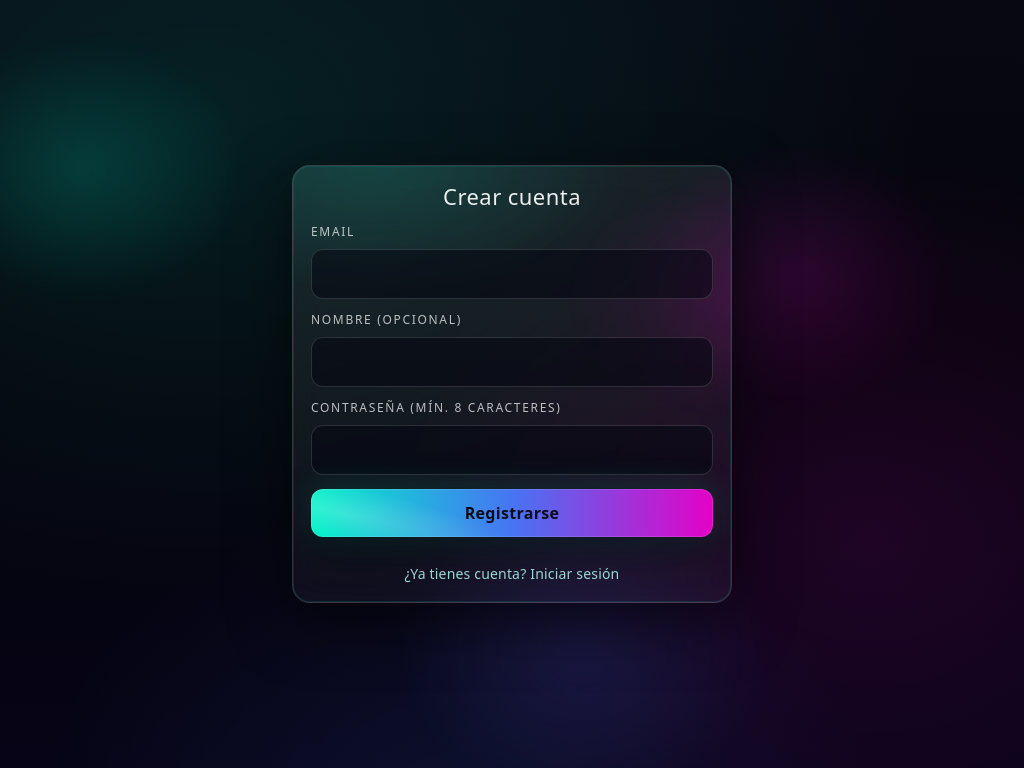
it: RegisterPage › shows error when email already exists
The image size is (1024, 768).
Type "exists@example.com" into the field labelled "Email" at (512, 274), box [311, 249, 713, 299]
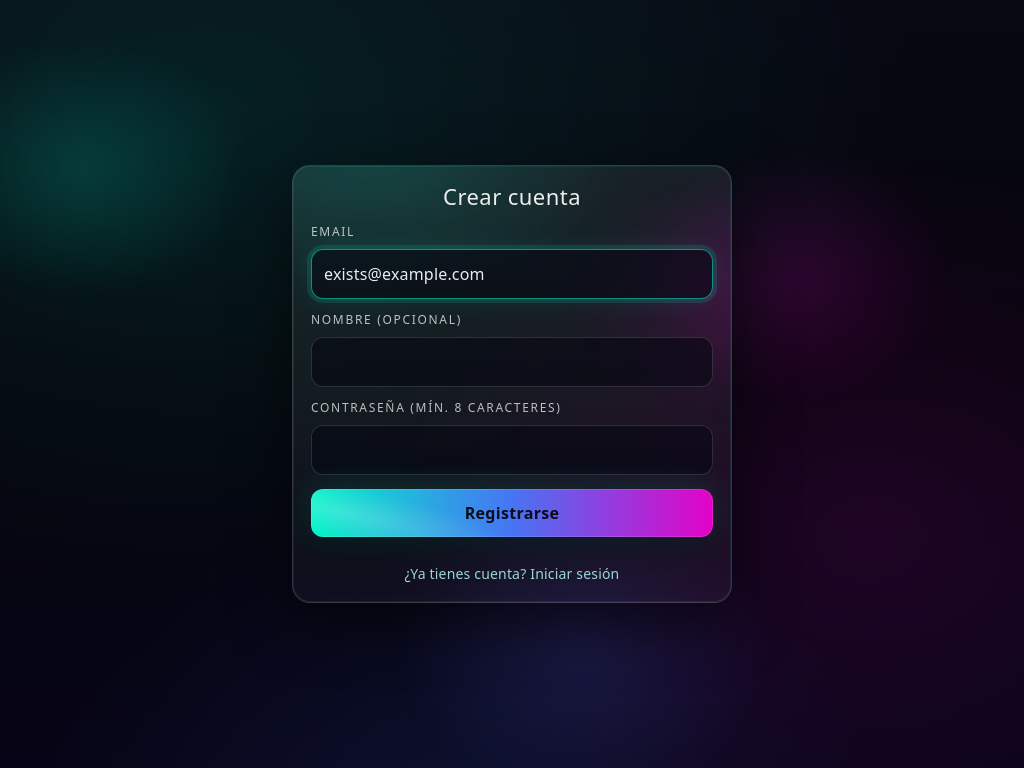
Type "password123" into the password field labelled "Contraseña (mín. 8 caracteres)" at (512, 450), box [311, 425, 713, 475]
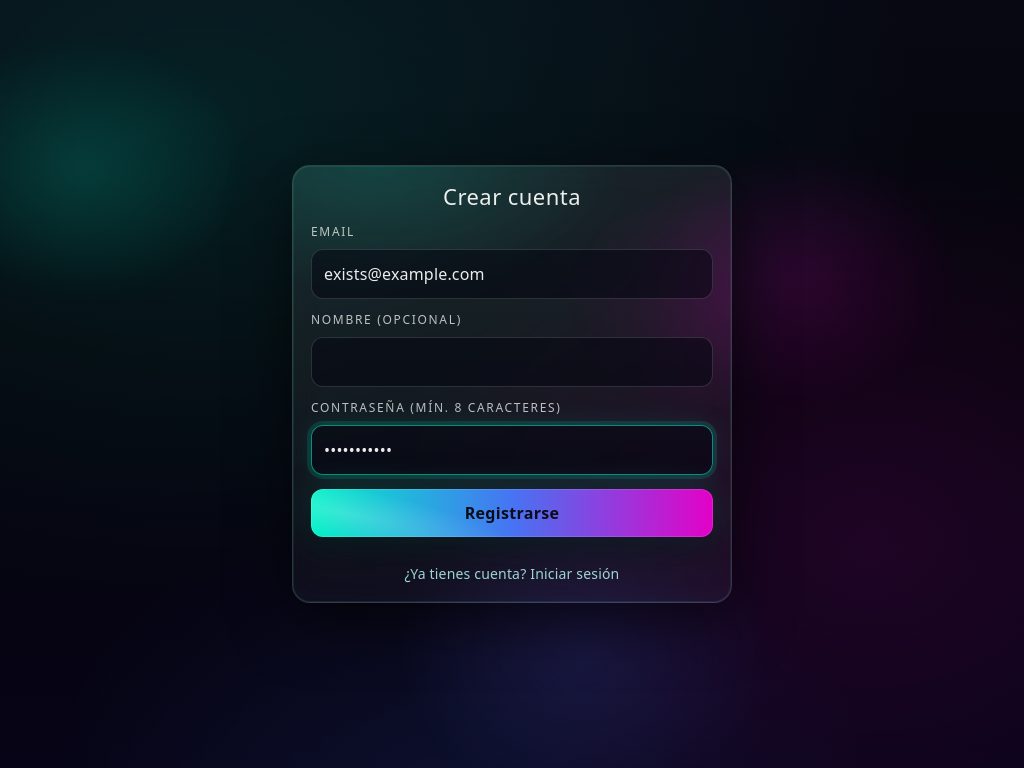
Click the button "Registrarse" at (512, 513), box [311, 489, 713, 537]
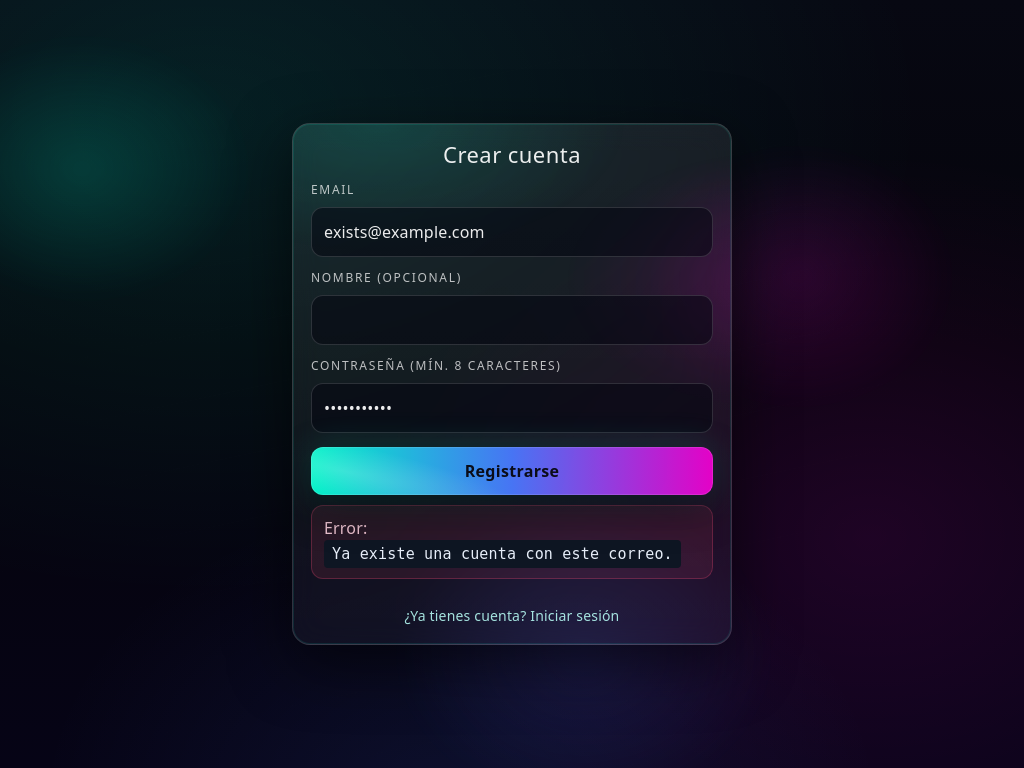
expect the message shows "Ya existe una cuenta con este correo": met, box [332, 545, 673, 563]
